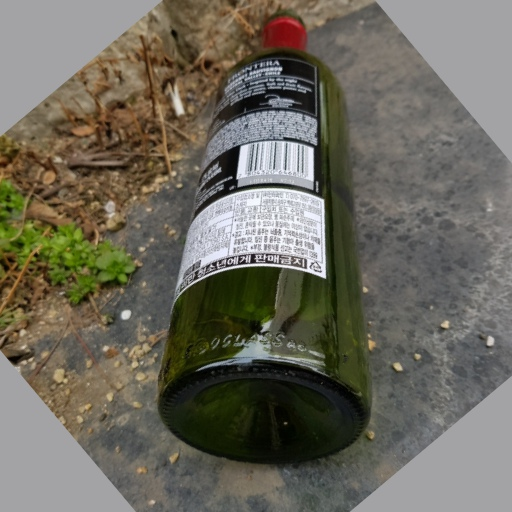Glass_2: (155, 10, 375, 462)
